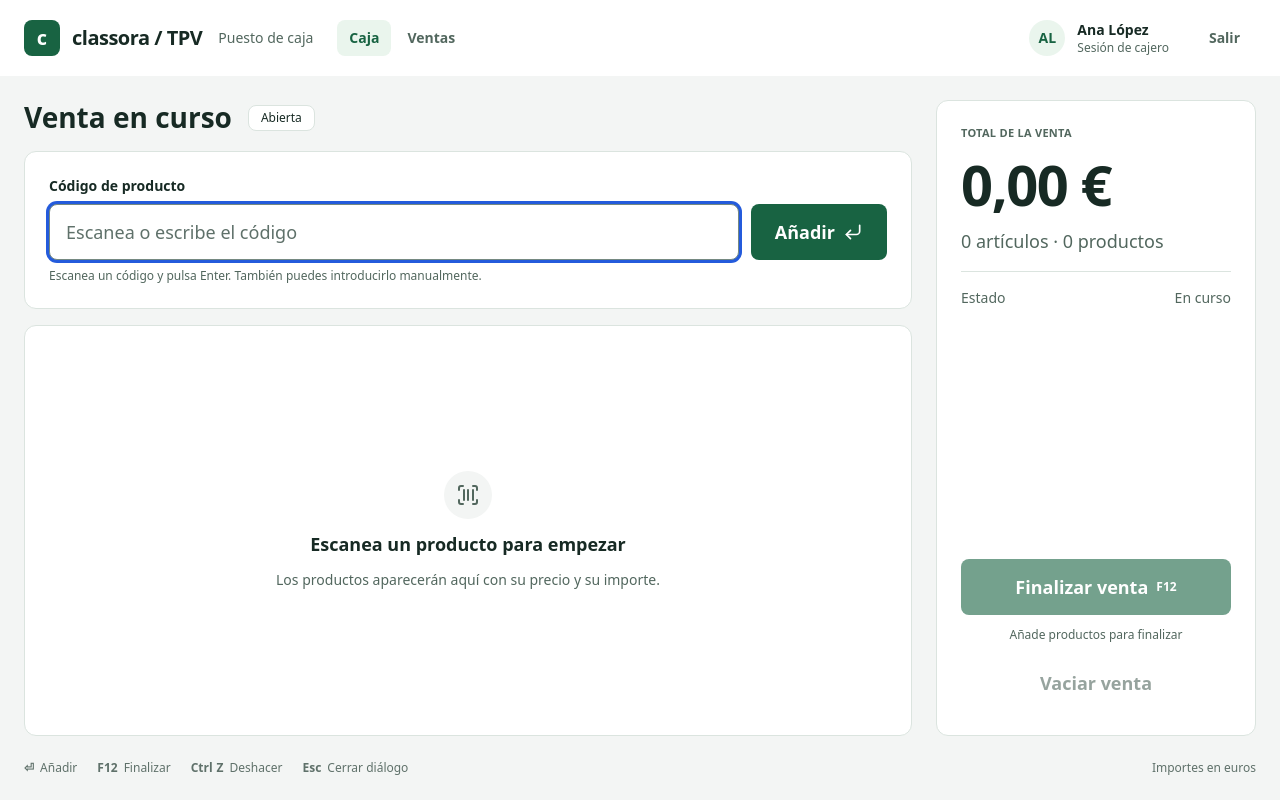
Test: Checkout: Screen Integration › I-06: should roll back an optimistic line when the server fails
Type "8412345000010" into the field labelled "Código de producto" at coordinates (394, 232), box [49,204,739,260]
Then press Enter
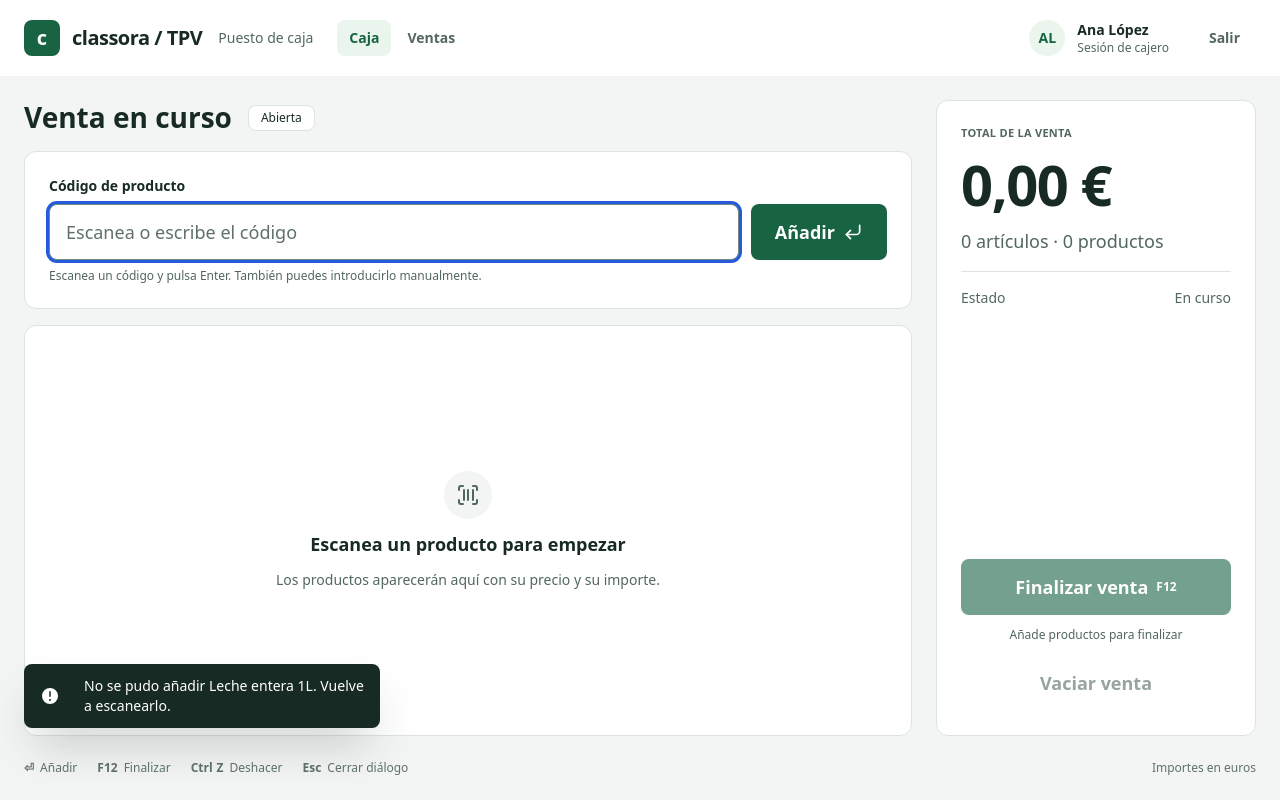
Expected: the text "Escanea un producto para empezar" is shown, [310,531,626,558]
Expected: the text "No se pudo añadir Leche entera 1L. Vuelve a escanearlo." is shown, [84,676,364,716]
